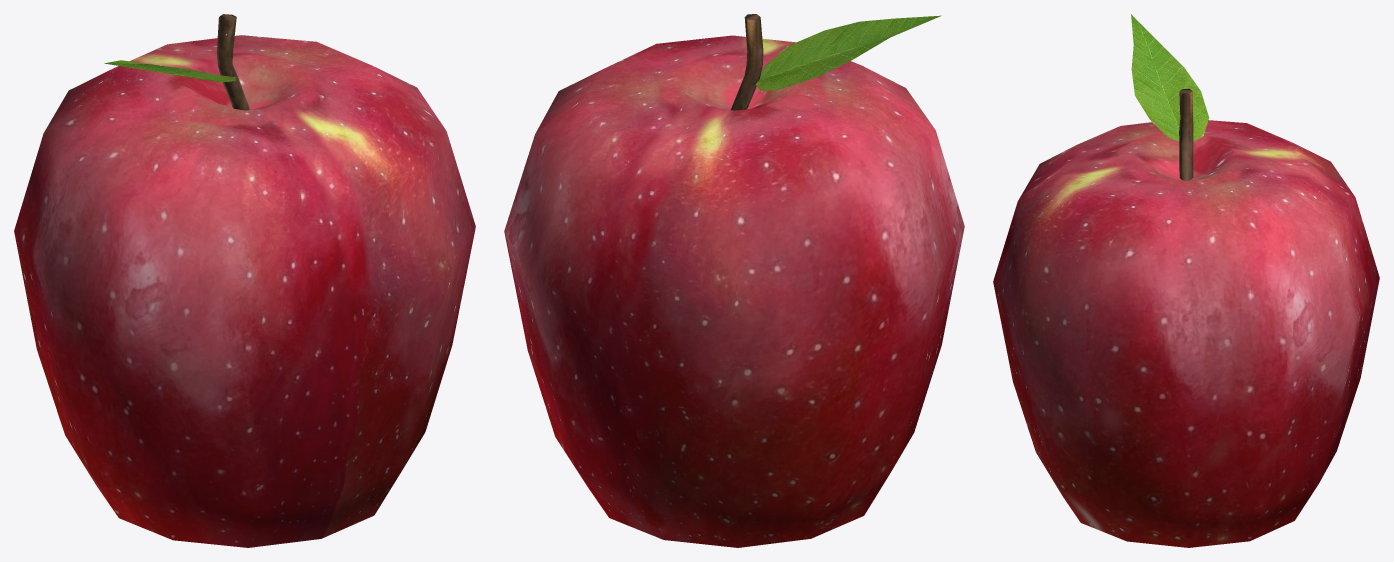
Rendered from apple.fbx.
3 views of the same model, side by side, from view 1: azimuth 30°, elevation 25°; view 2: azimuth 150°, elevation 25°; view 3: azimuth 270°, elevation 25° (orthographic). The views are drawn at different scales.
Visible parts, largest first — view 1: Apple; view 2: Apple; view 3: Apple.
Boxes of the visible parts, x1=… form: Apple: x1=14, y1=14, x2=475, y2=547; Apple: x1=504, y1=14, x2=964, y2=547; Apple: x1=993, y1=14, x2=1379, y2=547.
Bounding box in the file's own units: 53.87 × 65.82 × 53.94.
1 material, 1 textured.
